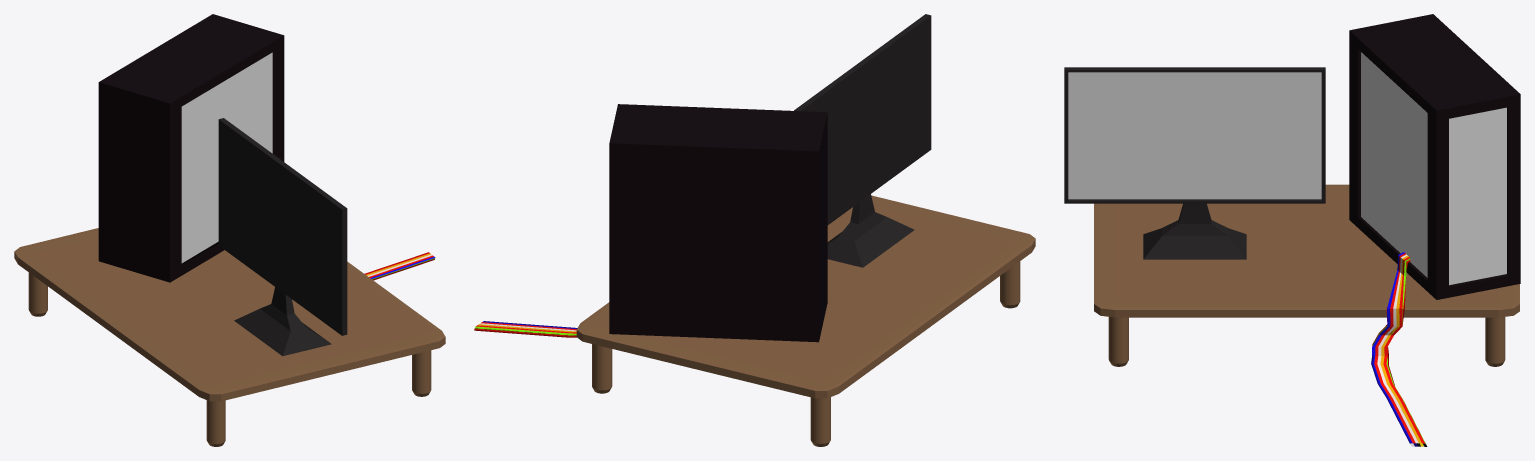
The model's file is table.fbx.
3 views of the same model, side by side, from view 1: azimuth 30°, elevation 25°; view 2: azimuth 150°, elevation 25°; view 3: azimuth 270°, elevation 25° (orthographic). The views are drawn at different scales.
Parts seen in each view (by area): view 1: Table, MOBO, Monitor, Computer Glass, Cables.001; view 2: MOBO, Table, Monitor, Cables.001; view 3: Table, Monitor Screen, Computer Glass, MOBO, Monitor, Cables.001.
Part boxes in pixels (x1,y1,x2,y2): Table: (14,228,445,446); MOBO: (98,14,284,282); Monitor: (218,118,347,356); Computer Glass: (181,52,272,263); Cables.001: (364,252,435,280); MOBO: (609,104,827,342); Table: (576,195,1035,446); Monitor: (794,14,931,267); Cables.001: (474,321,577,337); Table: (1094,184,1519,366); Monitor Screen: (1068,72,1321,199); Computer Glass: (1361,52,1506,285); MOBO: (1349,14,1520,299); Monitor: (1064,67,1325,259); Cables.001: (1371,252,1427,446).
Size of the model in its own units: 440 by 279 by 437.
